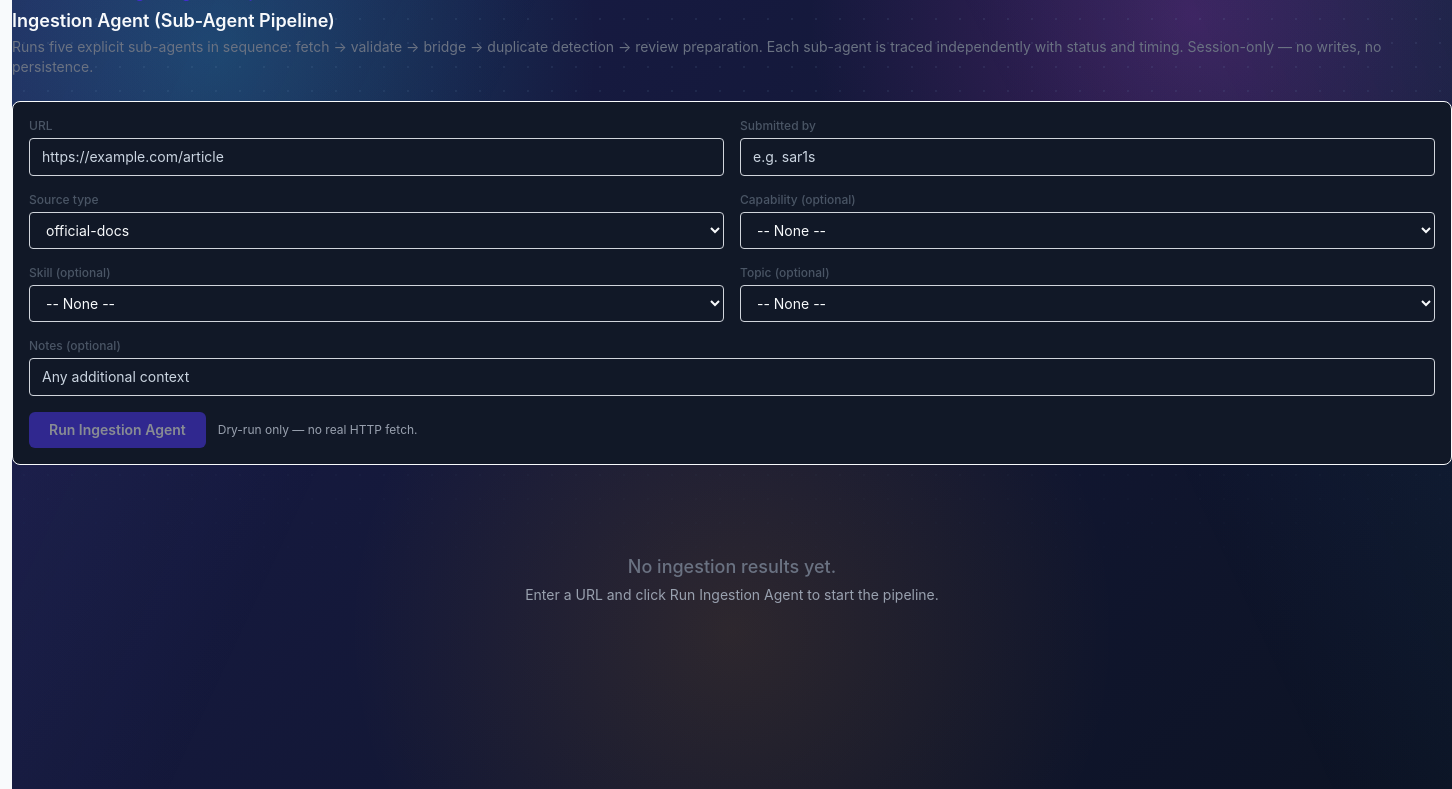
Test case: IngestionAgentPreview › approve button works on review queue candidate
Type "https://example.com/approve-me" into the field with placeholder "https://example.com/article" at [376, 157], box left=29, top=138, right=724, bottom=176
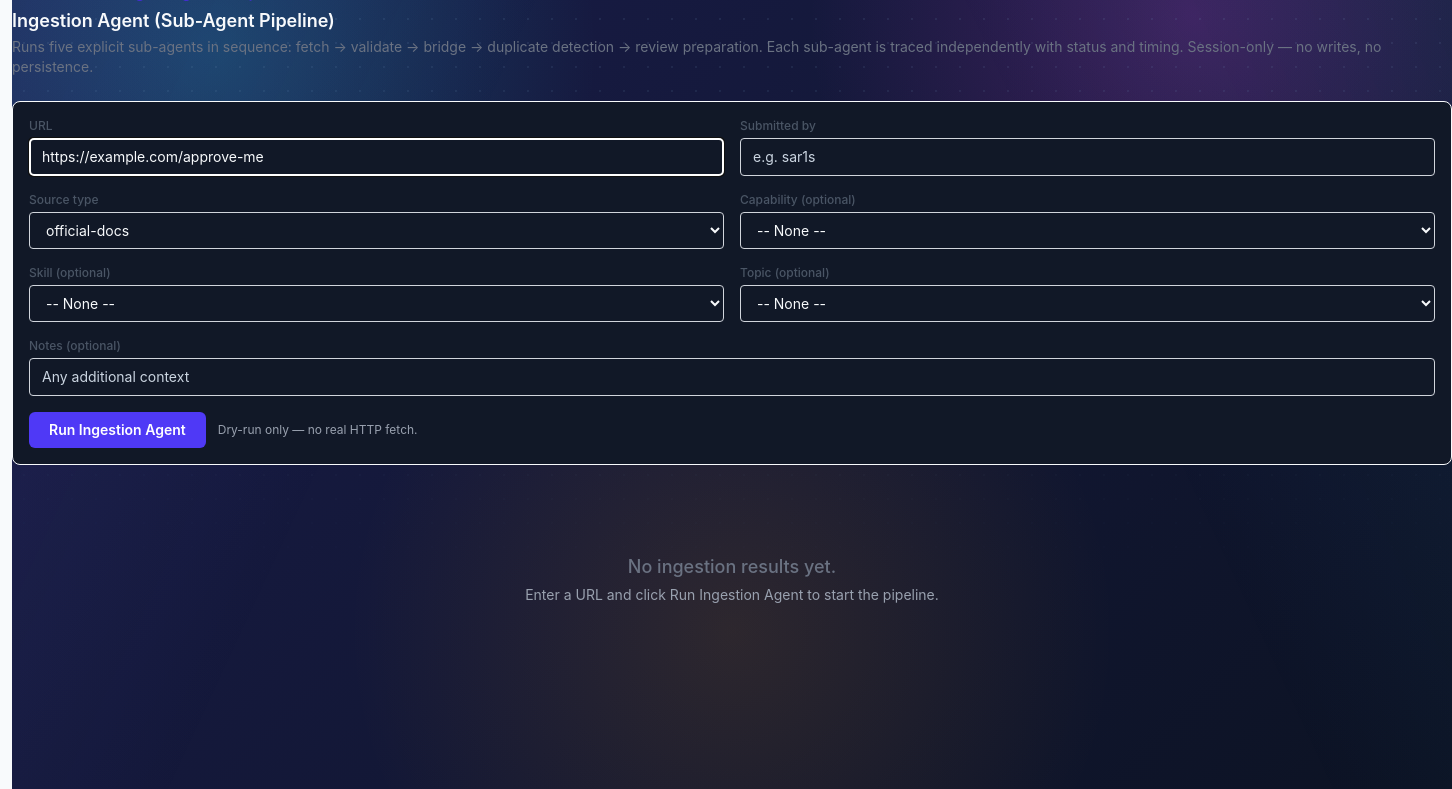
Type "test-user" into the field with placeholder "e.g. sar1s" at [1088, 157], box left=740, top=138, right=1435, bottom=176
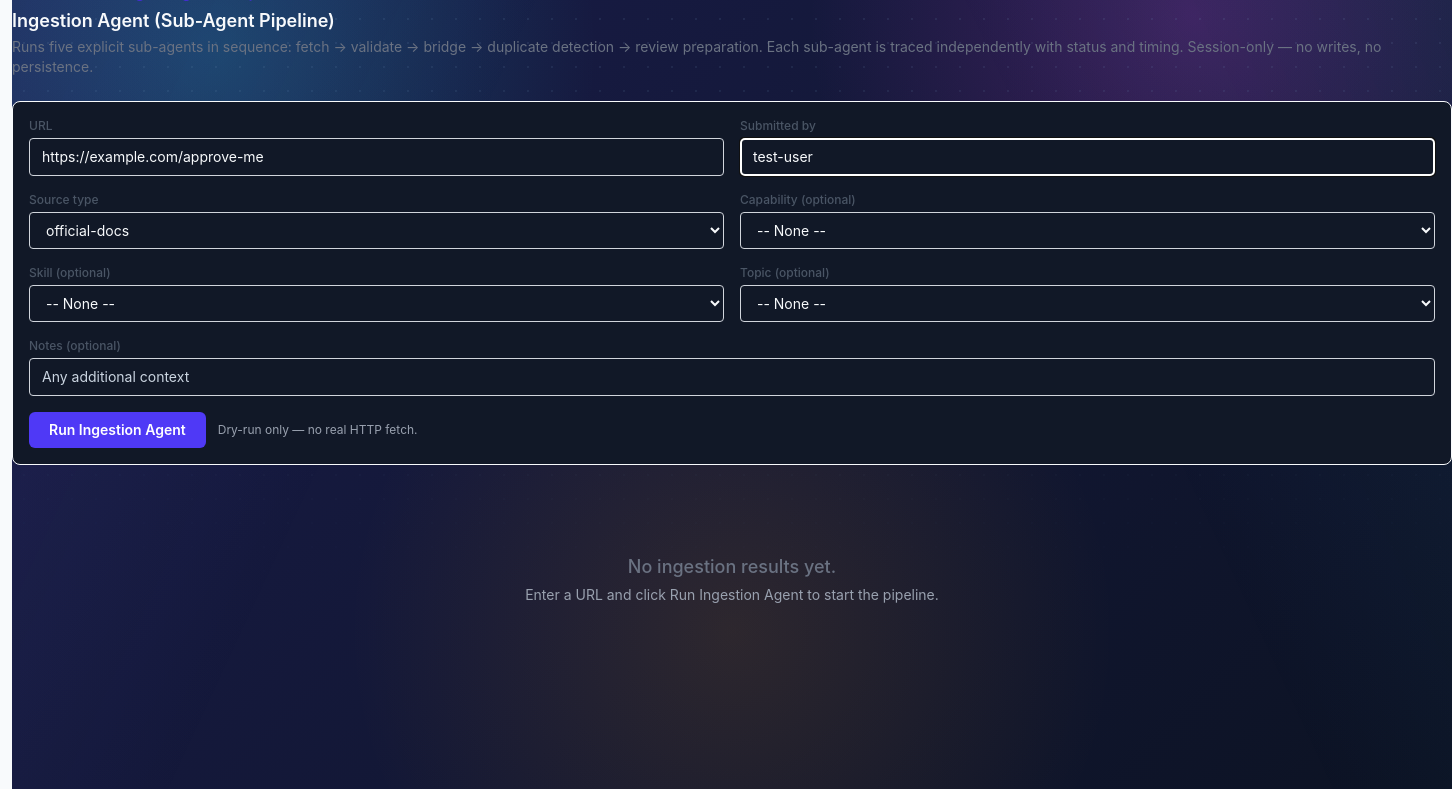
Click the button "Run Ingestion Agent" at [117, 430], box left=29, top=412, right=206, bottom=448
(page scrolled)
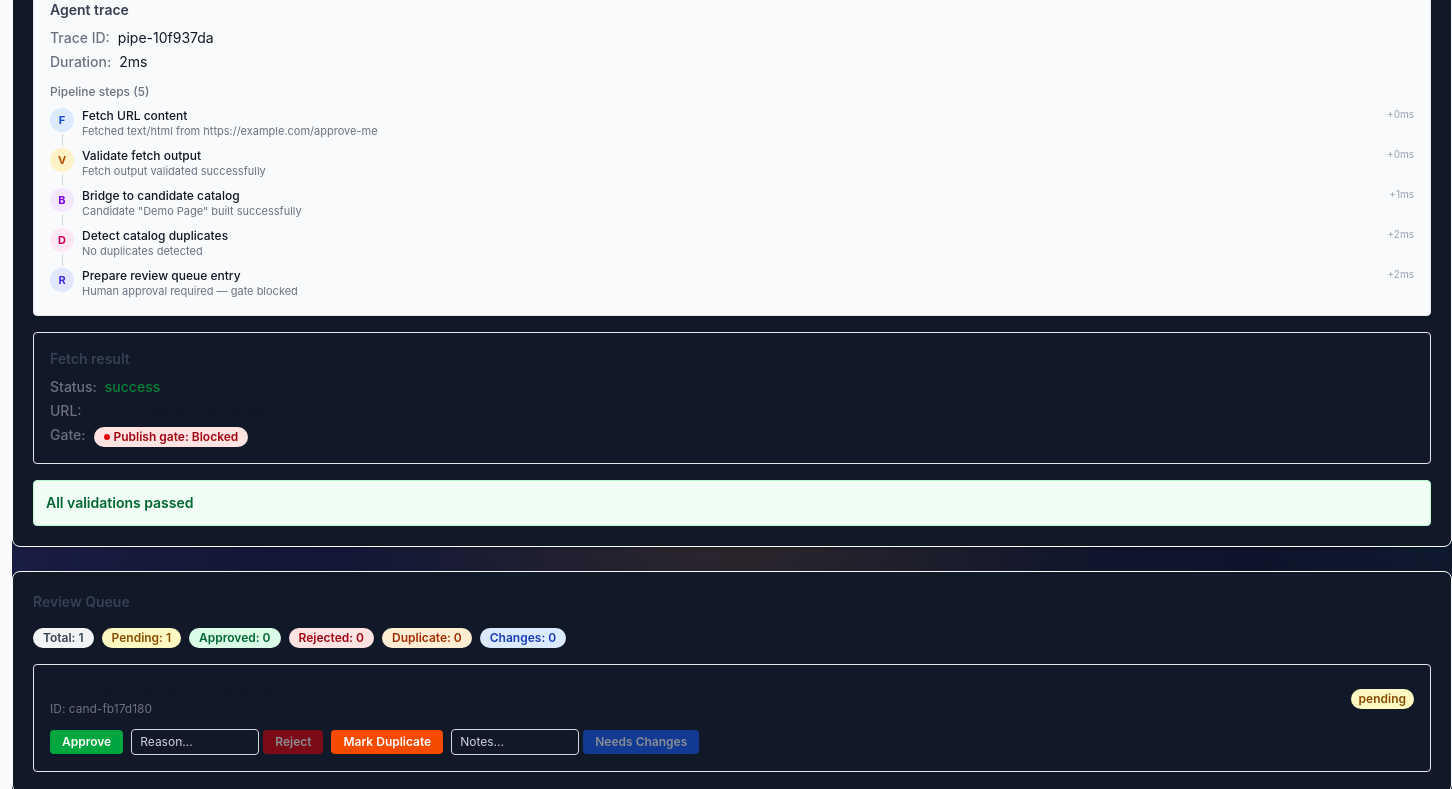
Click the button "Approve" at [87, 742], box left=50, top=730, right=123, bottom=754
(page scrolled)
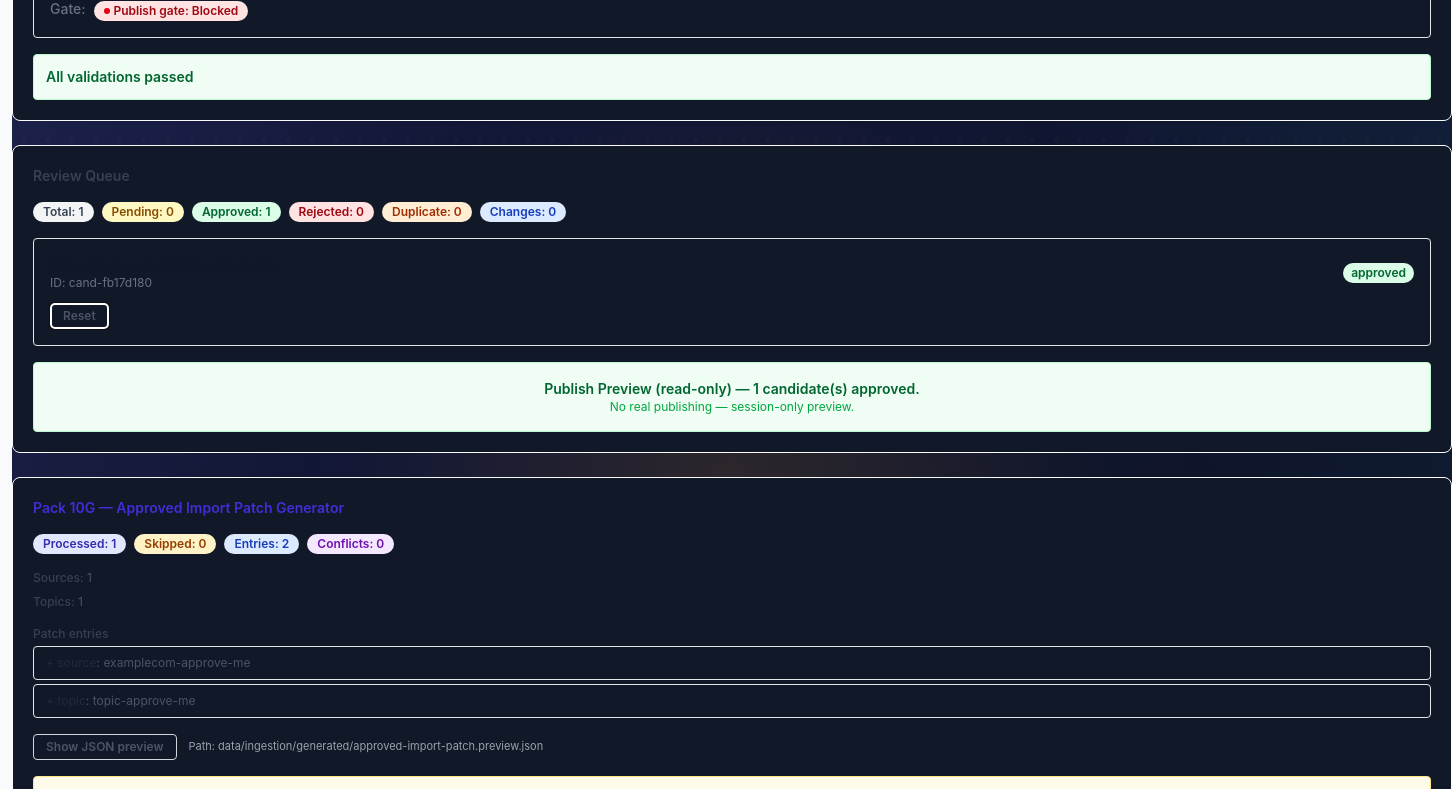
Check: the text "approved" is shown, box left=1343, top=263, right=1414, bottom=283
Check: the text "Publish Preview (read-only) — 1 candidate(s) approved." is shown, box left=544, top=380, right=920, bottom=397
